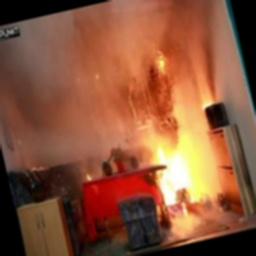fire: (138, 119, 222, 217)
